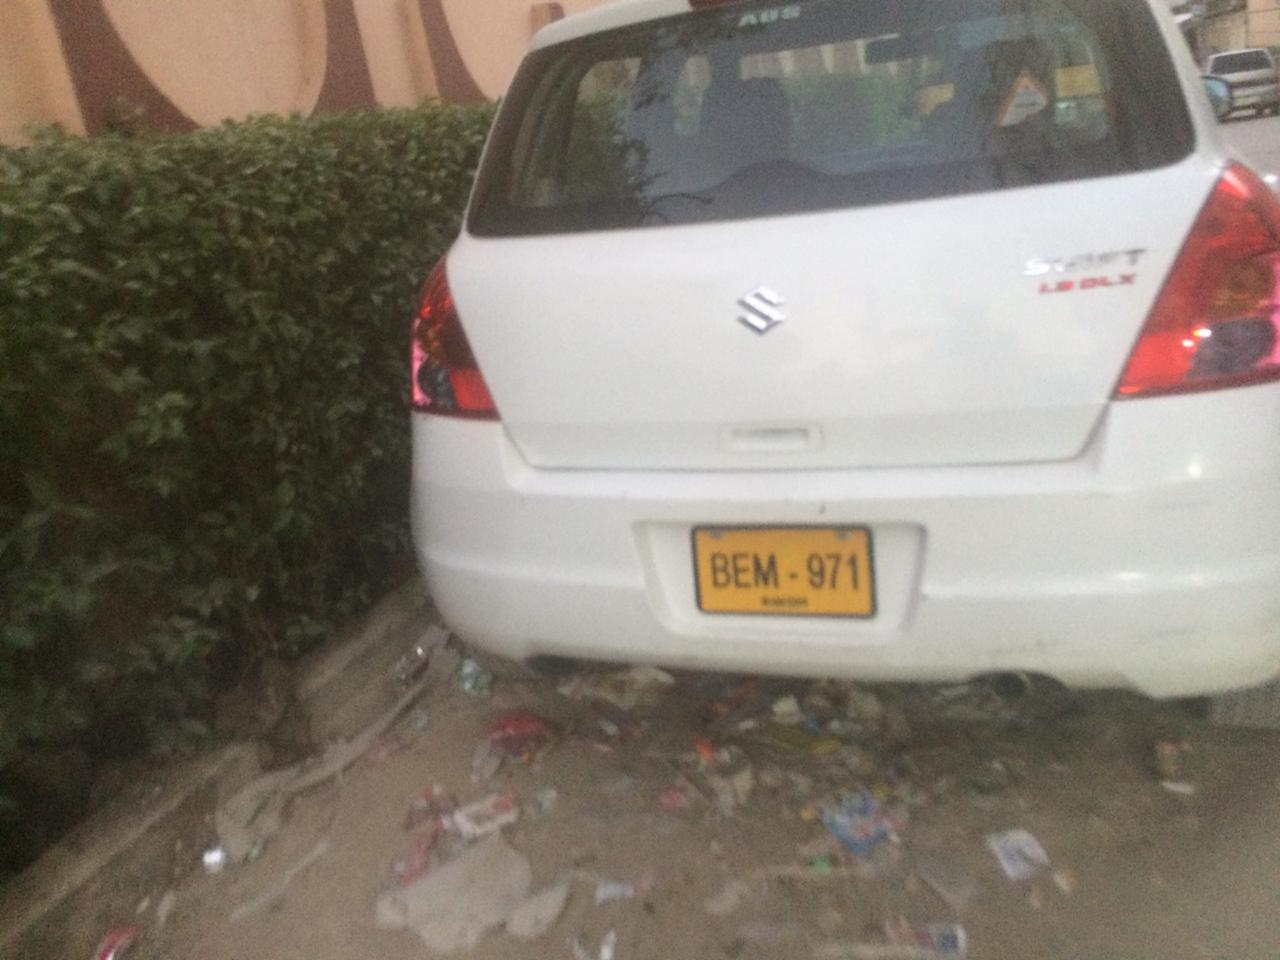license plate: (694, 525, 881, 621)
